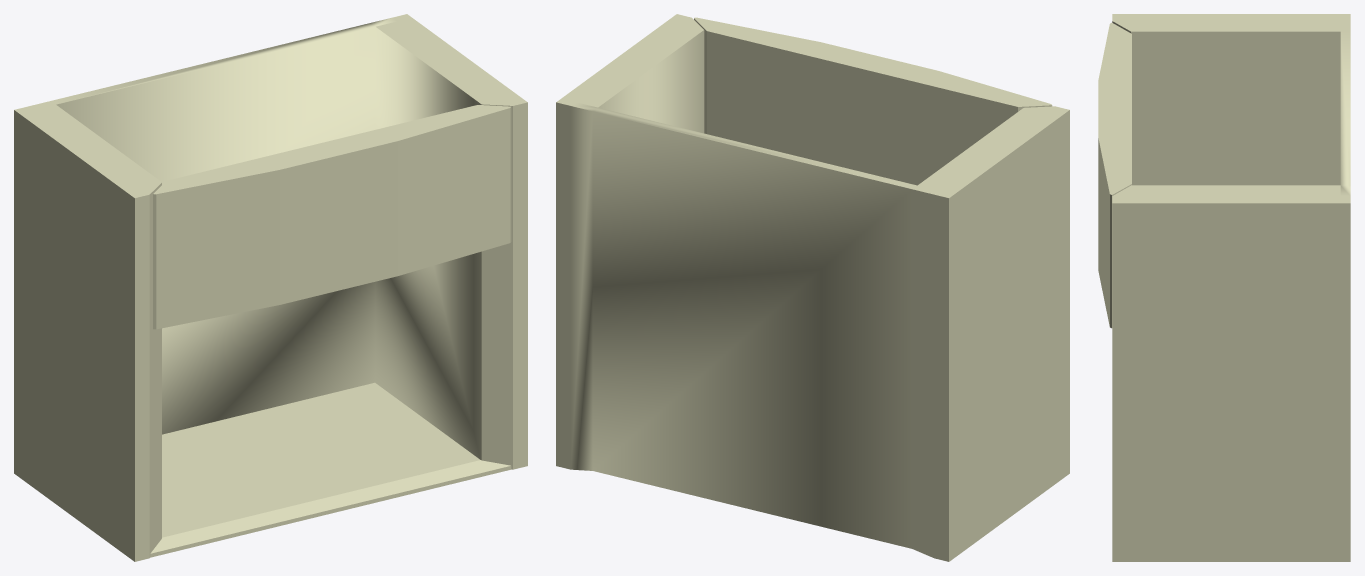
File: fumehood.gltf
The picture shows the model from 3 angles, left to right: view 1: azimuth 30°, elevation 25°; view 2: azimuth 150°, elevation 25°; view 3: azimuth 270°, elevation 25°; orthographic projection.
Visible parts, largest first — view 1: fumehoodhousing_Plane, fumehoodfront_Plane.008, fumehoodbase_Plane.009; view 2: fumehoodhousing_Plane, fumehoodfront_Plane.008; view 3: fumehoodhousing_Plane, fumehoodfront_Plane.008.
Boxes of the visible parts, x1=… form: fumehoodhousing_Plane: x1=14, y1=14, x2=527, y2=561; fumehoodfront_Plane.008: x1=153, y1=105, x2=511, y2=329; fumehoodbase_Plane.009: x1=150, y1=382, x2=511, y2=557; fumehoodhousing_Plane: x1=556, y1=14, x2=1069, y2=561; fumehoodfront_Plane.008: x1=694, y1=17, x2=1052, y2=185; fumehoodhousing_Plane: x1=1112, y1=14, x2=1350, y2=561; fumehoodfront_Plane.008: x1=1098, y1=22, x2=1131, y2=328.
Size of the model in its own units: 6.09 by 5.38 by 3.43.
